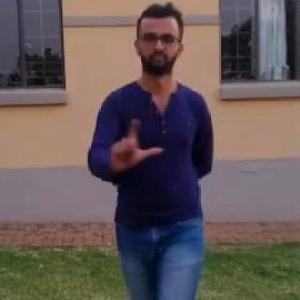land_hand: (99, 116, 164, 174)
